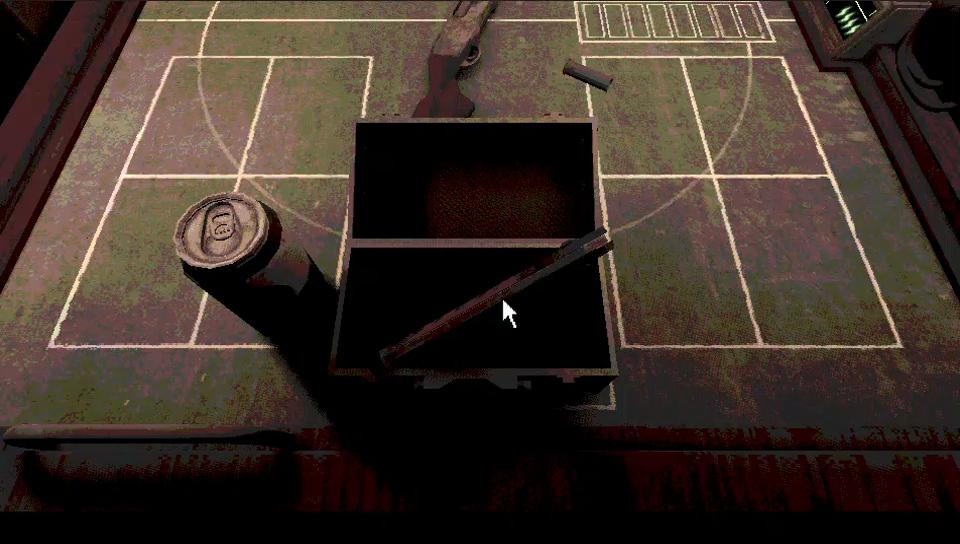ally: (5, 10, 959, 526)
can: (182, 191, 330, 340)
emptyspace: (721, 177, 903, 345), (55, 177, 233, 346), (605, 173, 762, 350), (684, 55, 836, 178), (127, 56, 270, 171), (586, 55, 713, 175)
inventorybox: (332, 116, 624, 369)
